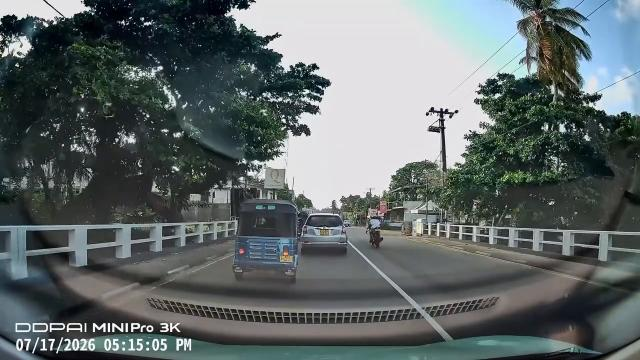illegal overtaking: (363, 214, 386, 250)
